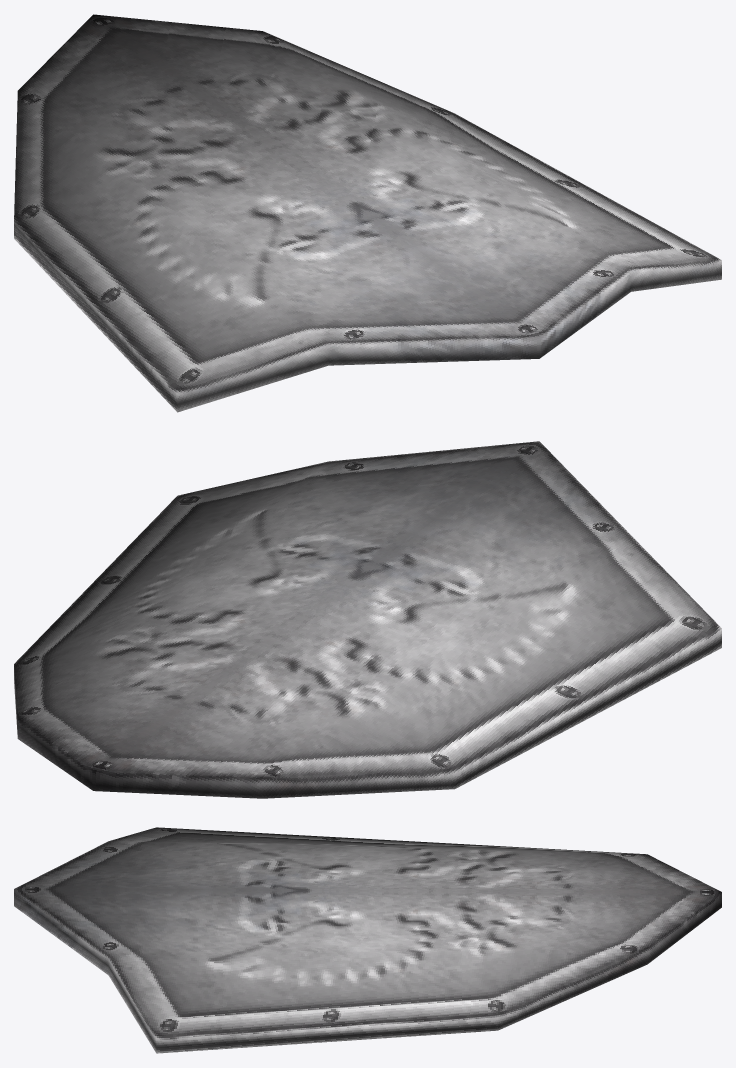
File: shield_1.glb
3 views of the same model, one above another, from view 1: azimuth 30°, elevation 25°; view 2: azimuth 150°, elevation 25°; view 3: azimuth 270°, elevation 25° (orthographic). The views are drawn at different scales.
Parts seen in each view (by area): view 1: shield_1; view 2: shield_1; view 3: shield_1.
Boxes of the visible parts, x1,y1,x2,y2 form: shield_1: [14, 14, 721, 412]; shield_1: [14, 441, 721, 798]; shield_1: [14, 827, 721, 1053].
Bounding box in the file's own units: 1.3 × 0.17 × 1.84.
Materials: 1 (1 with a texture image).
